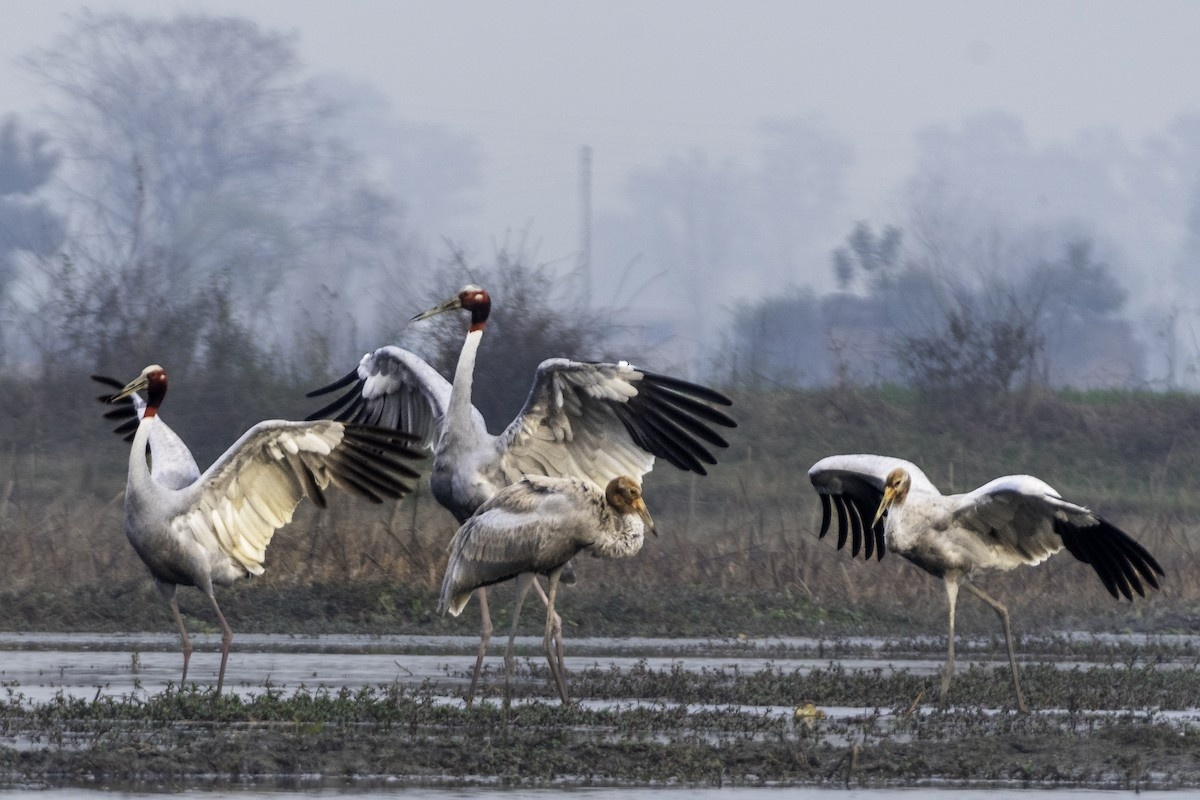crane: (805, 444, 1159, 709), (348, 287, 738, 497), (95, 365, 322, 643), (431, 471, 652, 668)
